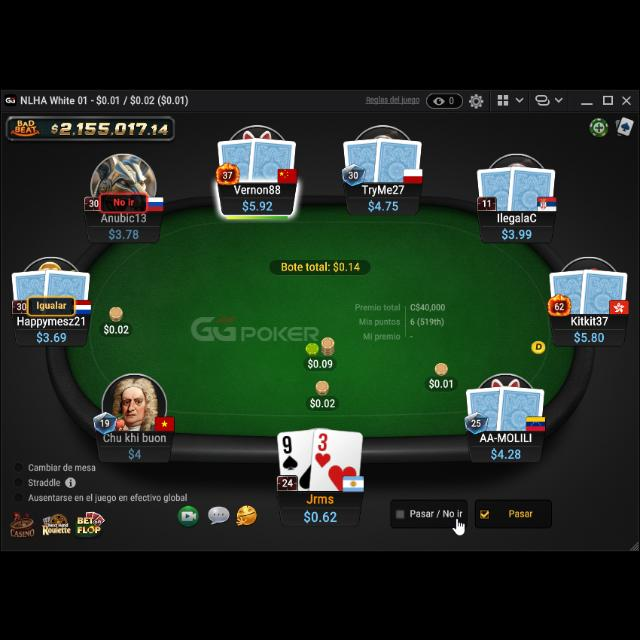3h: (313, 430, 333, 468)
9s: (280, 433, 300, 471)
bet_text: (102, 320, 132, 334), (309, 393, 337, 407), (308, 354, 334, 368)
card_back: (246, 134, 298, 184), (495, 382, 547, 432), (373, 134, 423, 184), (507, 162, 557, 212), (579, 265, 629, 315), (42, 264, 92, 312), (547, 266, 591, 316), (341, 136, 385, 184), (475, 163, 519, 211), (217, 136, 260, 184), (464, 384, 506, 431), (11, 266, 54, 310)
dealer: (528, 336, 548, 354)
pot_text: (280, 258, 362, 272)
stack_text: (304, 505, 338, 523), (106, 224, 140, 240), (501, 224, 534, 240), (34, 328, 68, 342), (241, 197, 275, 211), (572, 328, 606, 342), (367, 197, 401, 211), (490, 445, 522, 459), (127, 443, 143, 459)
